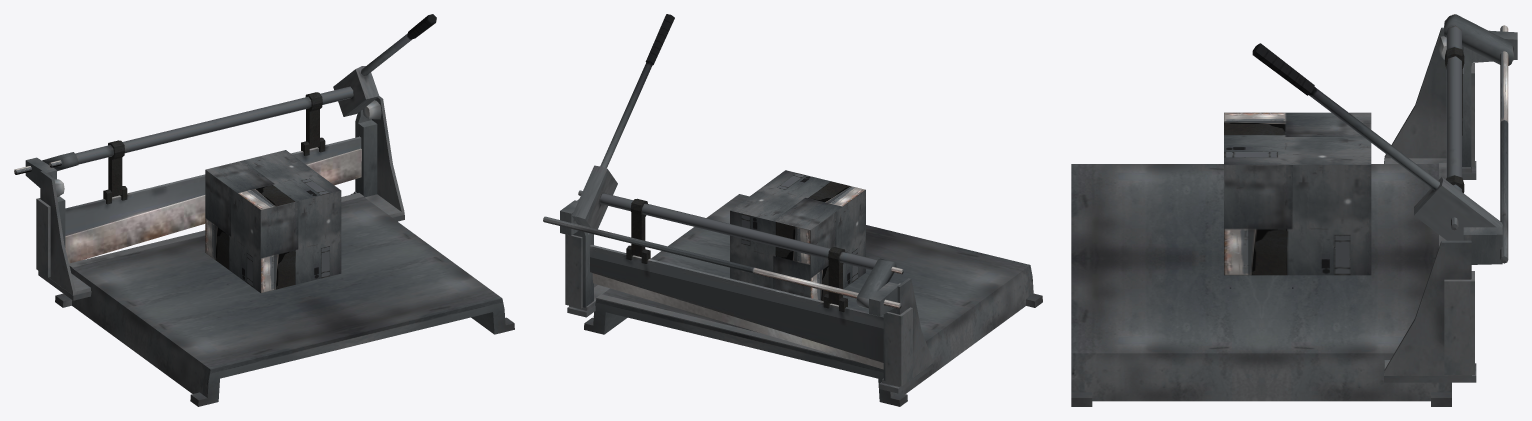
The model's file is machines_platecutter.dae.
3 views of the same model, side by side, from view 1: azimuth 30°, elevation 25°; view 2: azimuth 150°, elevation 25°; view 3: azimuth 270°, elevation 25° (orthographic). The views are drawn at different scales.
Parts seen in each view (by area): view 1: plate, _sound_run_machine_platecutter_run, cut, bar; view 2: plate, cut, _sound_run_machine_platecutter_run, bar, _joint_hinge_bar_plate_40_10_nocollide_joint1; view 3: plate, _sound_run_machine_platecutter_run, bar, _joint_hinge_bar_plate_40_10_nocollide_joint1, cut.
Boxes of the visible parts, x1,y1,x2,y2 form: plate: (25,96,514,406); _sound_run_machine_platecutter_run: (205,150,341,293); cut: (65,92,361,263); bar: (42,14,436,171); plate: (560,194,1042,406); cut: (590,198,883,369); _sound_run_machine_platecutter_run: (730,170,865,300); bar: (572,14,896,308); _joint_hinge_bar_plate_40_10_nocollide_joint1: (543,216,901,308); plate: (1071,27,1517,406); _sound_run_machine_platecutter_run: (1224,112,1371,275); bar: (1252,14,1513,240); _joint_hinge_bar_plate_40_10_nocollide_joint1: (1500,25,1508,263); cut: (1445,47,1464,193).
Size of what is drawn, in the model's own units: 0.9276 by 0.6624 by 0.7573.
